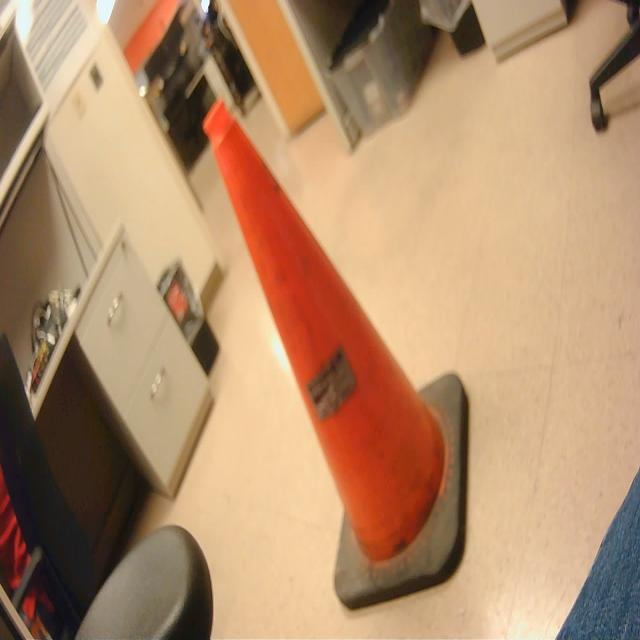traffic cone: (200, 92, 476, 619)
